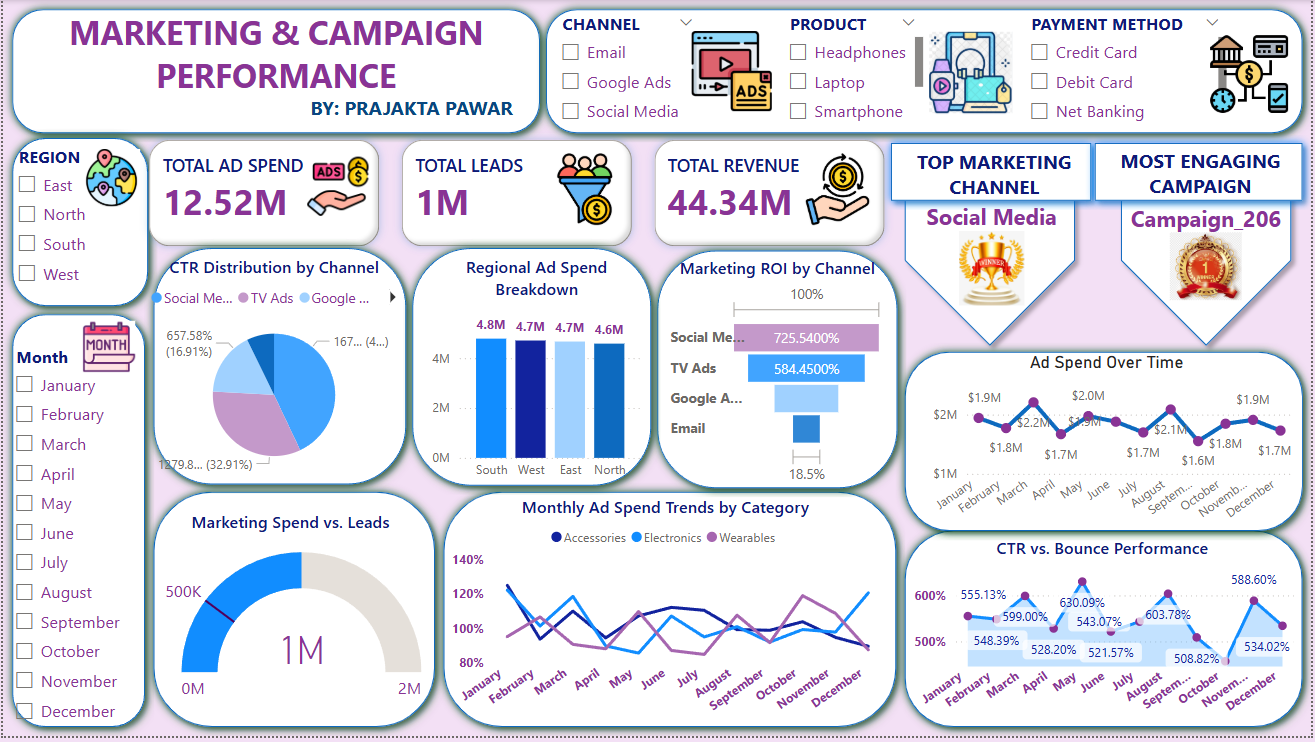

The dashboard page shown, as its layout file describes it:
{"tool":"powerbi","page":{"name":"Marketing & Campaign Performance","canvas":[1280,720],"ordinal":4},"visuals":[{"type":"shape","box":[0,0,534.4,139.4],"z":0},{"type":"shape","box":[522.1,0,758.2,139.4],"z":1000},{"type":"shape","box":[0,126.2,150.9,182.5],"z":2000},{"type":"cardVisual","fields":{"Data":["updated_marketing_data.Total Ad Spend","Sum(updated_marketing_data.Lead Conversions)","Sum(updated_marketing_data_with_revenue.Revenue)"]},"box":[127.2,121.1,752,137],"z":3000},{"type":"shape","box":[873.1,162.6,184.6,184.6],"z":4000},{"type":"shape","title":"TOP PRODUCT","box":[859.7,130.8,214,74.6],"z":5000},{"type":"shape","box":[0,298.4,148,421.9],"z":6000},{"type":"shape","box":[138.2,472,293.5,248.2],"z":7000},{"type":"shape","box":[421.9,472,461,248.2],"z":8000},{"type":"shape","box":[873.1,509.9,407.2,210.3],"z":9000},{"type":"shape","box":[872.7,334.8,407.5,193.5],"z":10000},{"type":"shape","box":[138.2,233.6,265.4,249.5],"z":11000},{"type":"shape","box":[631,236,253.1,250.7],"z":12000},{"type":"shape","box":[391.3,233.6,251.9,250.7],"z":13000},{"type":"lineClusteredColumnComboChart","title":"CTR  vs. Bounce Performance","fields":{"Y2":["Sum(updated_marketing_data.CTR (%))"],"Series":["updated_marketing_data.Bounce Rate (%)"],"Category":["updated_sales_data.Date.Variation.Date Hierarchy.Month"]},"box":[882.9,524.6,385.2,184.6],"z":14000},{"type":"gauge","title":"Marketing Spend vs. Leads","fields":{"Y":["Sum(updated_marketing_data.Lead Conversions)"],"TargetValue":["updated_marketing_data.Target Lead Conversions"]},"box":[148,498.9,266.6,210.3],"z":15000},{"type":"lineChart","title":"Monthly Ad Spend Trends by Category","fields":{"Y":["Sum(updated_marketing_data.Ad Spend ($))"],"Category":["updated_sales_data.Date.Variation.Date Hierarchy.Month"],"Series":["updated_sales_data.Category"]},"box":[431.7,484.2,432.9,225],"z":16000},{"type":"clusteredColumnChart","title":"Regional Ad Spend Breakdown","fields":{"Category":["updated_sales_data.Region"],"Y":["updated_marketing_data.Total Ad Spend"]},"box":[414.5,249.5,215.2,228.7],"z":17000},{"type":"pieChart","title":"CTR Distribution by Channel","fields":{"Category":["updated_marketing_data.Channel"],"Y":["Sum(updated_marketing_data.CTR (%))"]},"box":[139.4,249.5,251.9,222.6],"z":18000},{"type":"funnel","title":"\tMarketing ROI by Channel","fields":{"Category":["updated_marketing_data.Channel"],"Y":["Sum(updated_marketing_data.ROI)"]},"box":[648.1,250.7,218.9,227.4],"z":19000},{"type":"slicer","fields":{"Values":["updated_sales_data.Date.Variation.Date Hierarchy.Month"]},"box":[0,332.6,135.7,385.2],"z":20000},{"type":"slicer","fields":{"Values":["updated_sales_data.Region"]},"box":[2.4,137,124.7,159],"z":21000},{"type":"slicer","fields":{"Values":["updated_marketing_data.Channel"]},"box":[534.4,7.3,152.9,118.6],"z":22000},{"type":"slicer","fields":{"Values":["updated_sales_data.Product"]},"box":[756.9,7.3,148,118.6],"z":23000},{"type":"slicer","fields":{"Values":["updated_sales_data.Payment Method"]},"box":[992.9,7.3,209.1,122.3],"z":24000},{"type":"cardVisual","fields":{"Data":["updated_marketing_data.TOP MARKETING CHANNEL"]},"box":[879.2,172.4,176.1,145.5],"z":25000},{"type":"shape","box":[1084.7,151.6,184.6,195.7],"z":26000},{"type":"shape","box":[1059,130.8,221.3,74.6],"z":27000},{"type":"textbox","box":[0,4.9,534.4,108.8],"z":28000},{"type":"textbox","box":[295.9,88,299.6,51.4],"z":29000},{"type":"cardVisual","fields":{"Data":["updated_marketing_data.Most_Engaging_Campaign"]},"box":[1084.7,173.6,184.6,166.3],"z":30000},{"type":"image","box":[1175.1,24.5,88,96.6],"z":31000},{"type":"image","box":[901.2,15.9,91.7,114.9],"z":32000},{"type":"textbox","box":[859.7,140.6,220.1,64.8],"z":33000},{"type":"textbox","box":[1073.6,139.4,195.7,66],"z":34000},{"type":"lineChart","title":"Ad Spend Over Time","fields":{"Y":["Sum(updated_marketing_data.Ad Spend ($))"],"Category":["updated_sales_data.Date.Variation.Date Hierarchy.Month"]},"box":[893.9,343.6,371.7,176.1],"z":35000},{"type":"image","box":[668.9,18.3,88,102.7],"z":36000},{"type":"image","box":[73.4,308.2,61.1,62.4],"z":37000},{"type":"image","box":[73.4,137,66,73.4],"z":38000}]}

Visuals, with their boxes in screenshot pixels (x1, y1, x2, y2), scaled from the page's 1280x720 canvas onto the 1315x742 screenshot:
shape: select_region(0, 0, 549, 144)
shape: select_region(536, 0, 1314, 144)
shape: select_region(0, 130, 155, 318)
cardVisual - updated_marketing_data.Total Ad Spend x Sum(updated_marketing_data.Lead Conversions): select_region(131, 125, 903, 266)
shape: select_region(897, 168, 1087, 358)
"TOP PRODUCT" shape: select_region(883, 135, 1103, 212)
shape: select_region(0, 308, 152, 741)
shape: select_region(142, 486, 444, 741)
shape: select_region(433, 486, 907, 741)
shape: select_region(897, 525, 1314, 741)
shape: select_region(897, 345, 1314, 544)
shape: select_region(142, 241, 415, 498)
shape: select_region(648, 243, 908, 502)
shape: select_region(402, 241, 661, 499)
"CTR  vs. Bounce Performance" lineClusteredColumnComboChart: select_region(907, 541, 1303, 731)
"Marketing Spend vs. Leads" gauge: select_region(152, 514, 426, 731)
"Monthly Ad Spend Trends by Category" lineChart: select_region(444, 499, 888, 731)
"Regional Ad Spend Breakdown" clusteredColumnChart: select_region(426, 257, 647, 493)
"CTR Distribution by Channel" pieChart: select_region(143, 257, 402, 487)
"	Marketing ROI by Channel" funnel: select_region(666, 258, 891, 493)
slicer - updated_sales_data.Date.Variation.Date Hierarchy.Month: select_region(0, 343, 139, 740)
slicer - updated_sales_data.Region: select_region(2, 141, 131, 305)
slicer - updated_marketing_data.Channel: select_region(549, 8, 706, 130)
slicer - updated_sales_data.Product: select_region(778, 8, 930, 130)
slicer - updated_sales_data.Payment Method: select_region(1020, 8, 1235, 134)
cardVisual - updated_marketing_data.TOP MARKETING CHANNEL: select_region(903, 178, 1084, 328)
shape: select_region(1114, 156, 1304, 358)
shape: select_region(1088, 135, 1314, 212)
textbox: select_region(0, 5, 549, 117)
textbox: select_region(304, 91, 612, 144)
cardVisual - updated_marketing_data.Most_Engaging_Campaign: select_region(1114, 179, 1304, 350)
image: select_region(1207, 25, 1298, 125)
image: select_region(926, 16, 1020, 135)
textbox: select_region(883, 145, 1109, 212)
textbox: select_region(1103, 144, 1304, 212)
"Ad Spend Over Time" lineChart: select_region(918, 354, 1300, 536)
image: select_region(687, 19, 778, 125)
image: select_region(75, 318, 138, 382)
image: select_region(75, 141, 143, 217)
